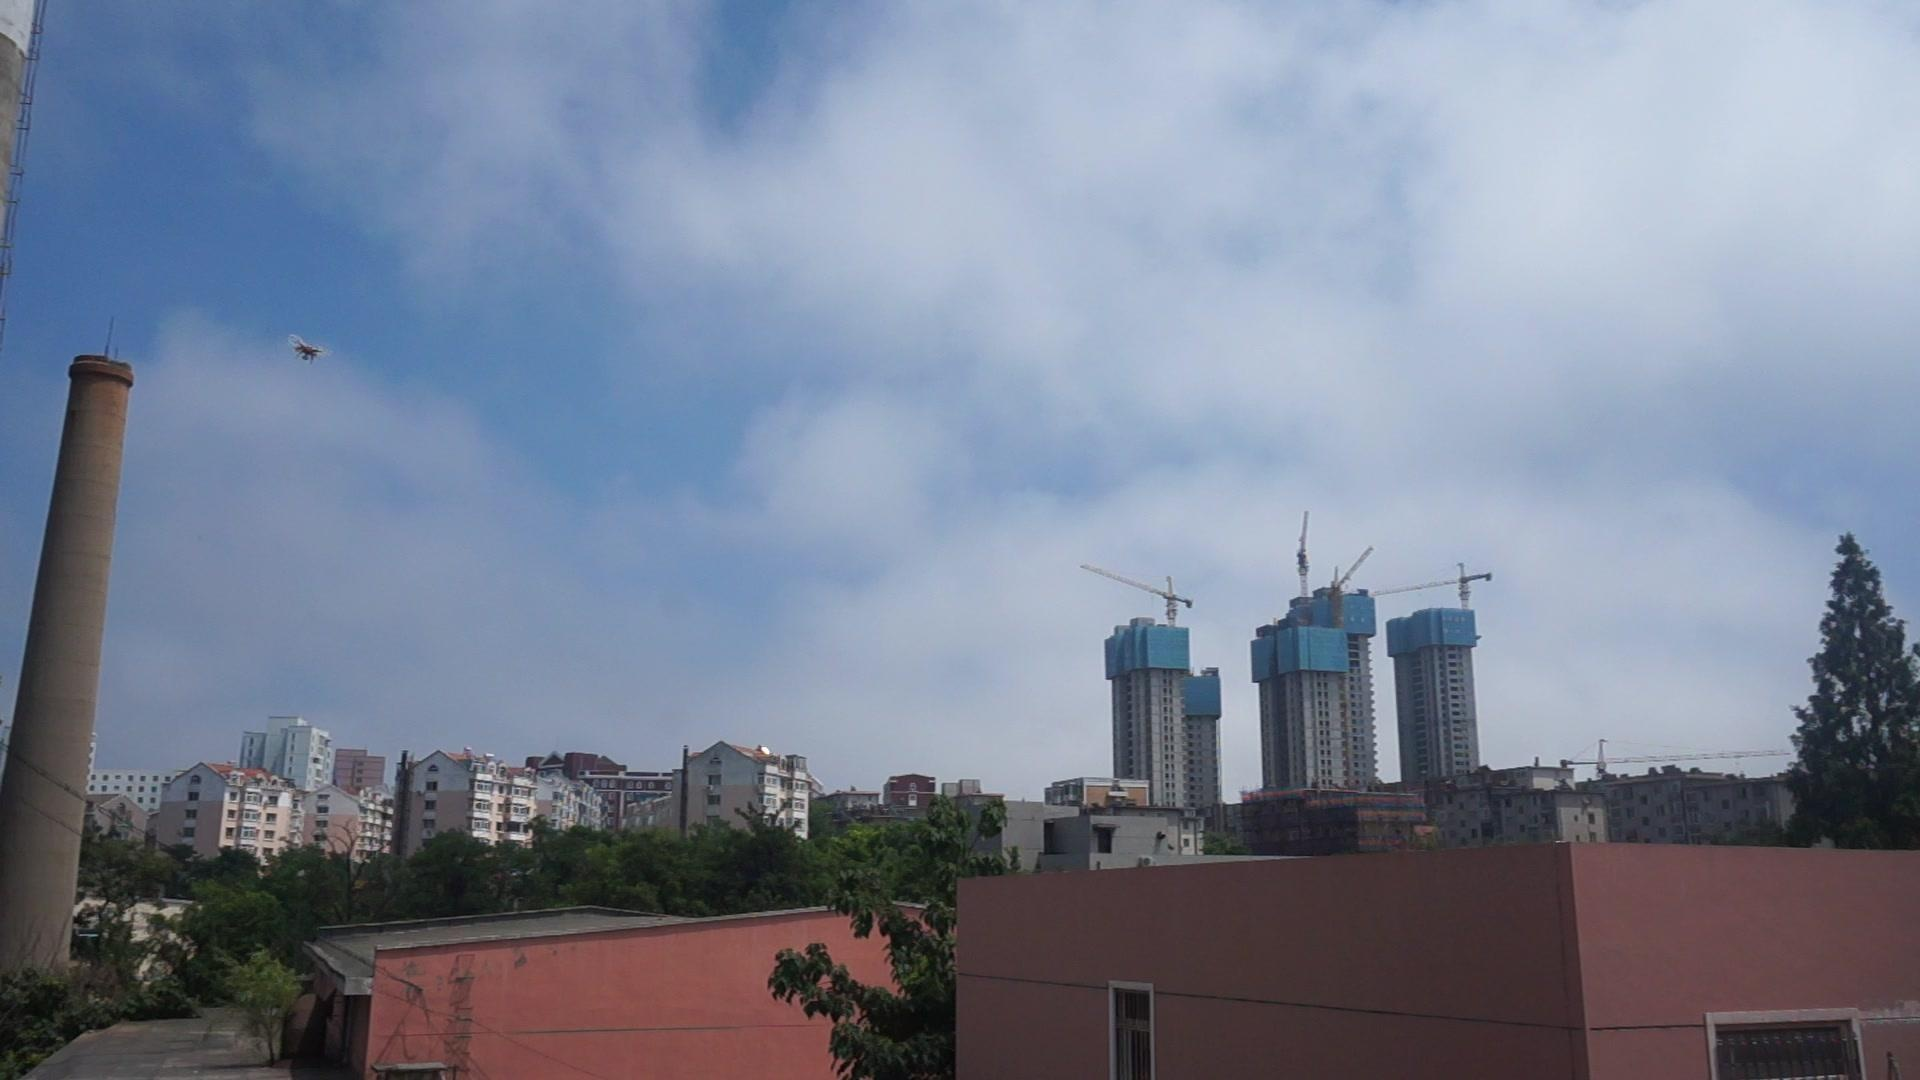UAV: (289, 335, 334, 365)
